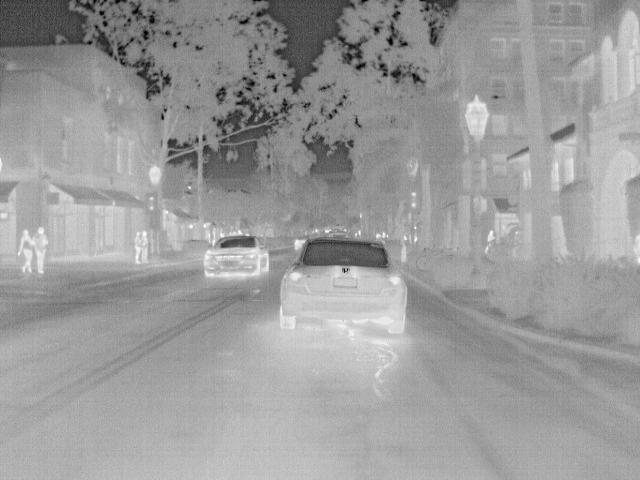car: (276, 238, 409, 331), (201, 234, 271, 278)
person: (15, 226, 35, 273), (32, 226, 48, 273), (131, 229, 145, 263), (141, 228, 153, 263), (481, 228, 497, 252)
